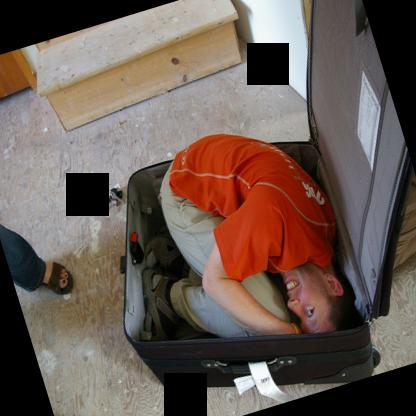suitcase: (118, 0, 402, 394)
